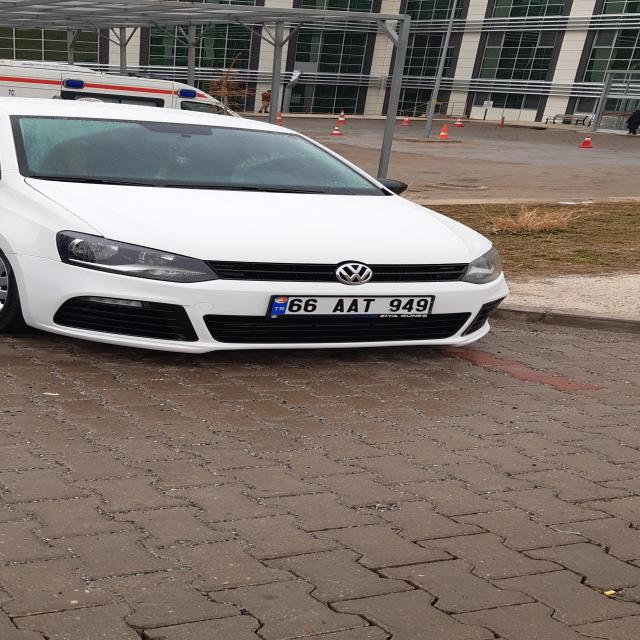plate: (268, 297, 433, 315)
